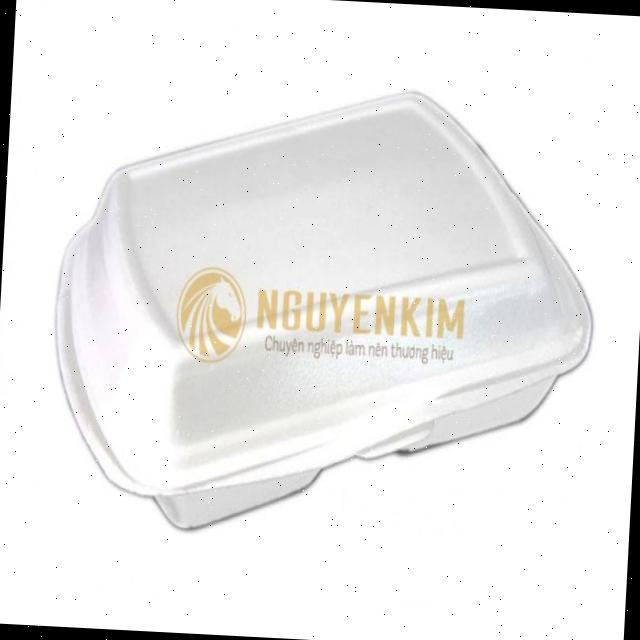styrofoam: (42, 69, 606, 552)
